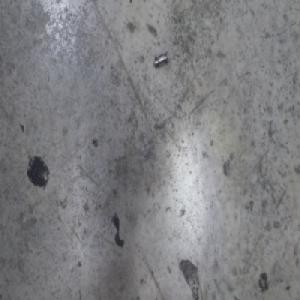Bolt: (153, 50, 169, 69)
